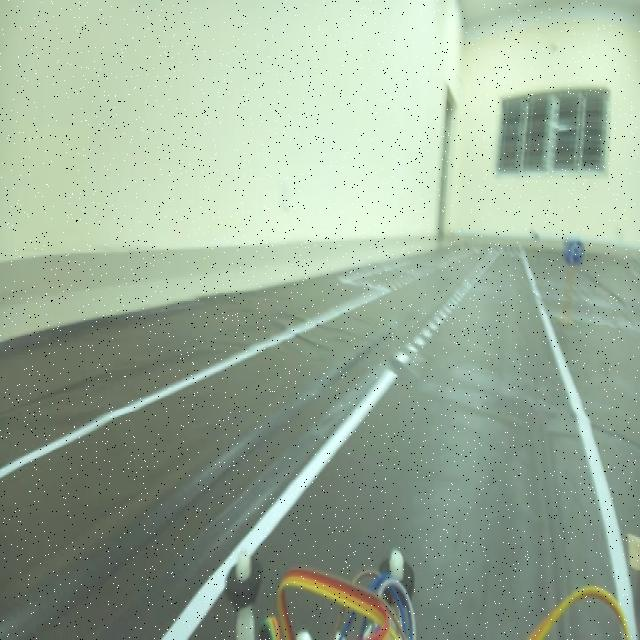parking: (561, 231, 586, 266)
